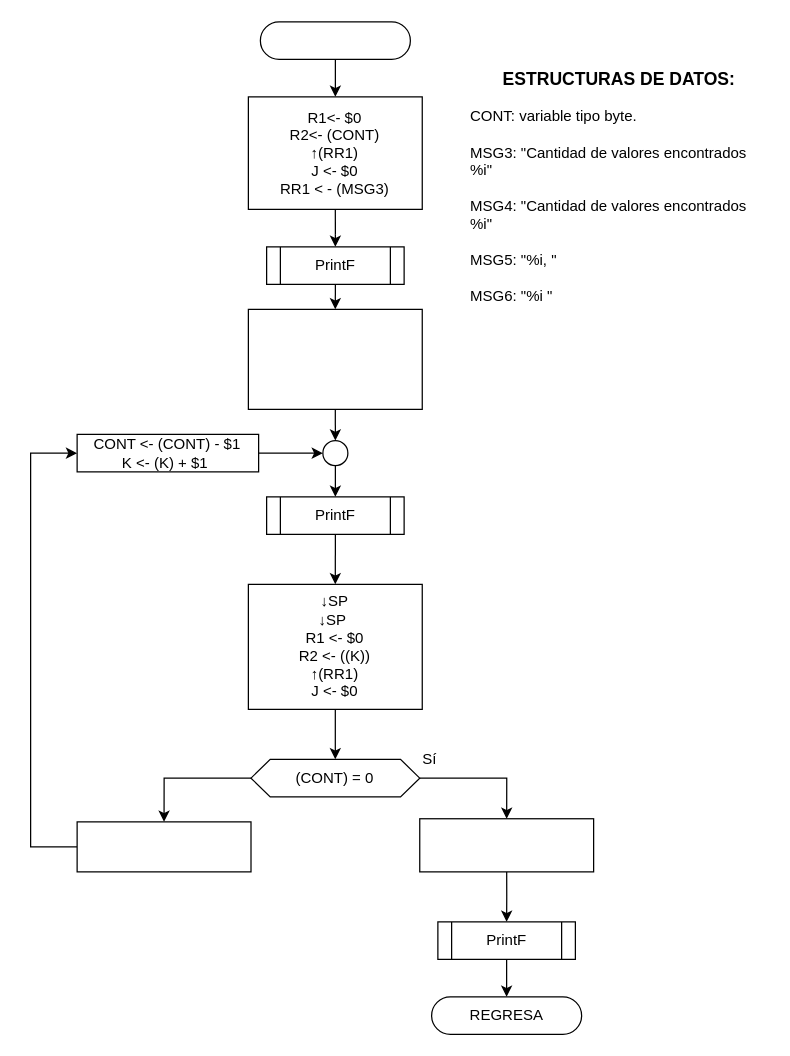
Some shapes in this 790 by 1056 pixel diagram are drawn without their labels. The shapes that lost their labels are listed below. From the top down, each one's centre as x and y in pixels, then its label:
point 334,40: Print_Result
point 334,358: ↓SP ↓SP K <- ENTERO J <- $0 RR1 < - (MSG4)
point 163,846: RR1 < - (MSG5)
point 506,845: RR1 < - (MSG6)
